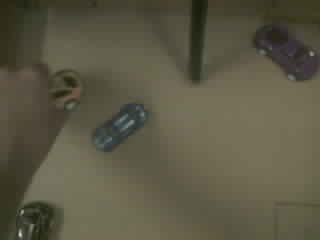Car: (254, 25, 317, 79), (93, 104, 146, 151), (18, 202, 53, 239), (52, 69, 81, 108)
